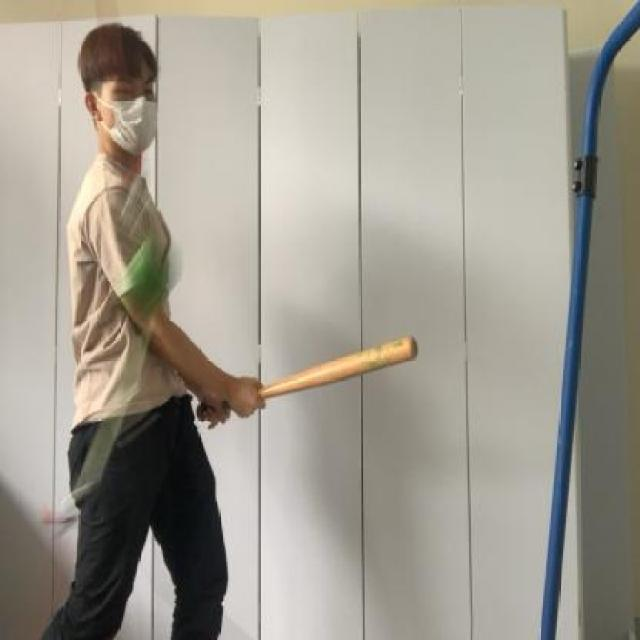baseball: (112, 228, 178, 307)
